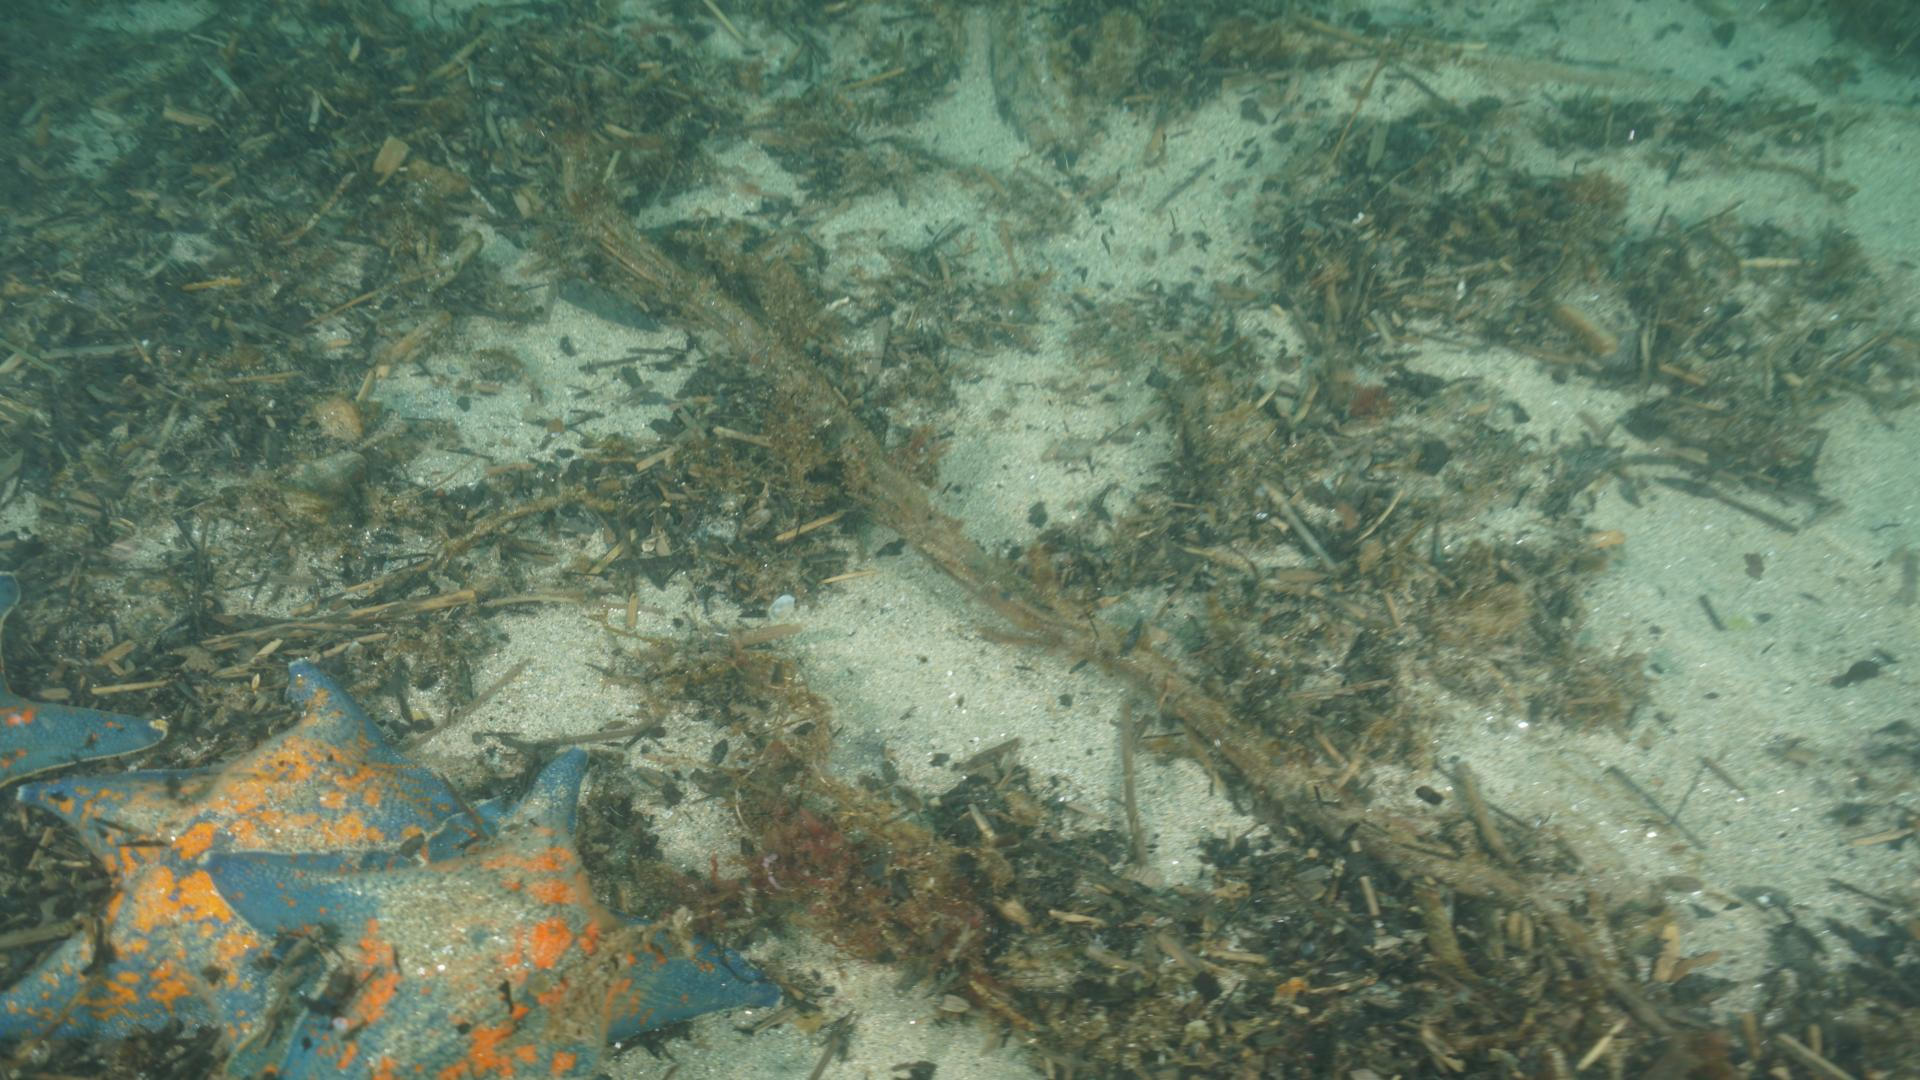wood: (553, 200, 1534, 961)
